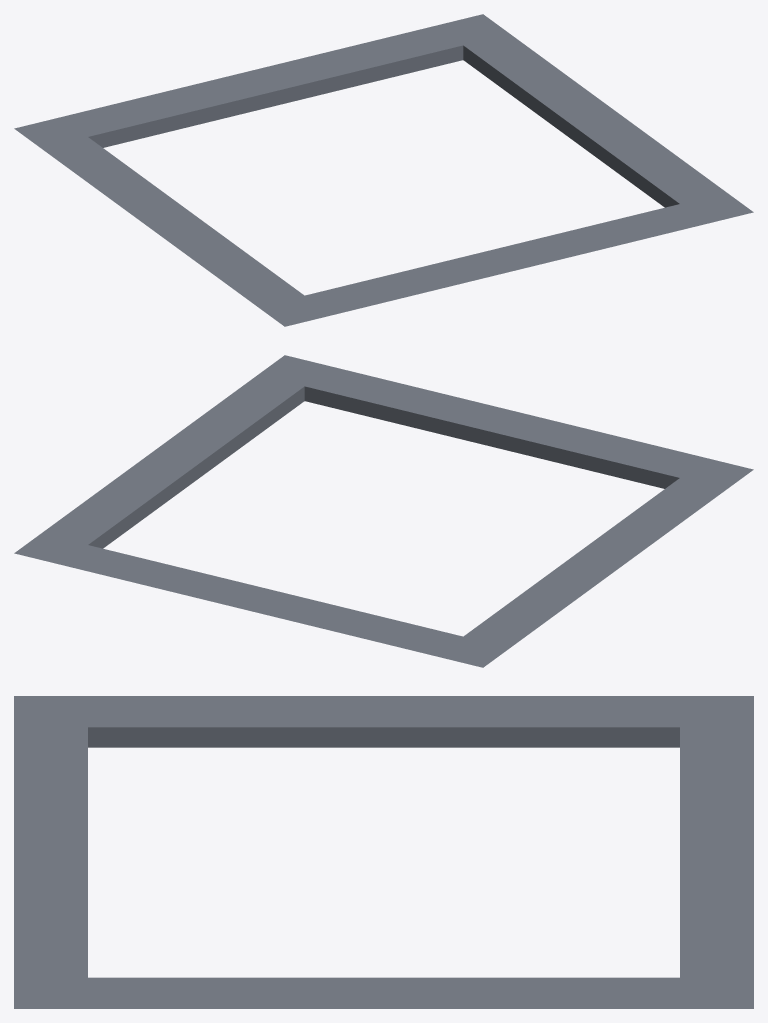
File: Mesh_GridGrey.fbx
3 renders of one model, top to bottom at view 1: azimuth 30°, elevation 25°; view 2: azimuth 150°, elevation 25°; view 3: azimuth 270°, elevation 25°, orthographic. The views are drawn at different scales.
Visible parts, largest first — view 1: Mesh_GridGrey; view 2: Mesh_GridGrey; view 3: Mesh_GridGrey.
Boxes of the visible parts, left/top/right/bottom form: Mesh_GridGrey: left=14, top=14, right=753, bottom=326; Mesh_GridGrey: left=14, top=355, right=753, bottom=667; Mesh_GridGrey: left=14, top=696, right=753, bottom=1008.
Size of the model in its own units: 1 by 1 by 0.03.
